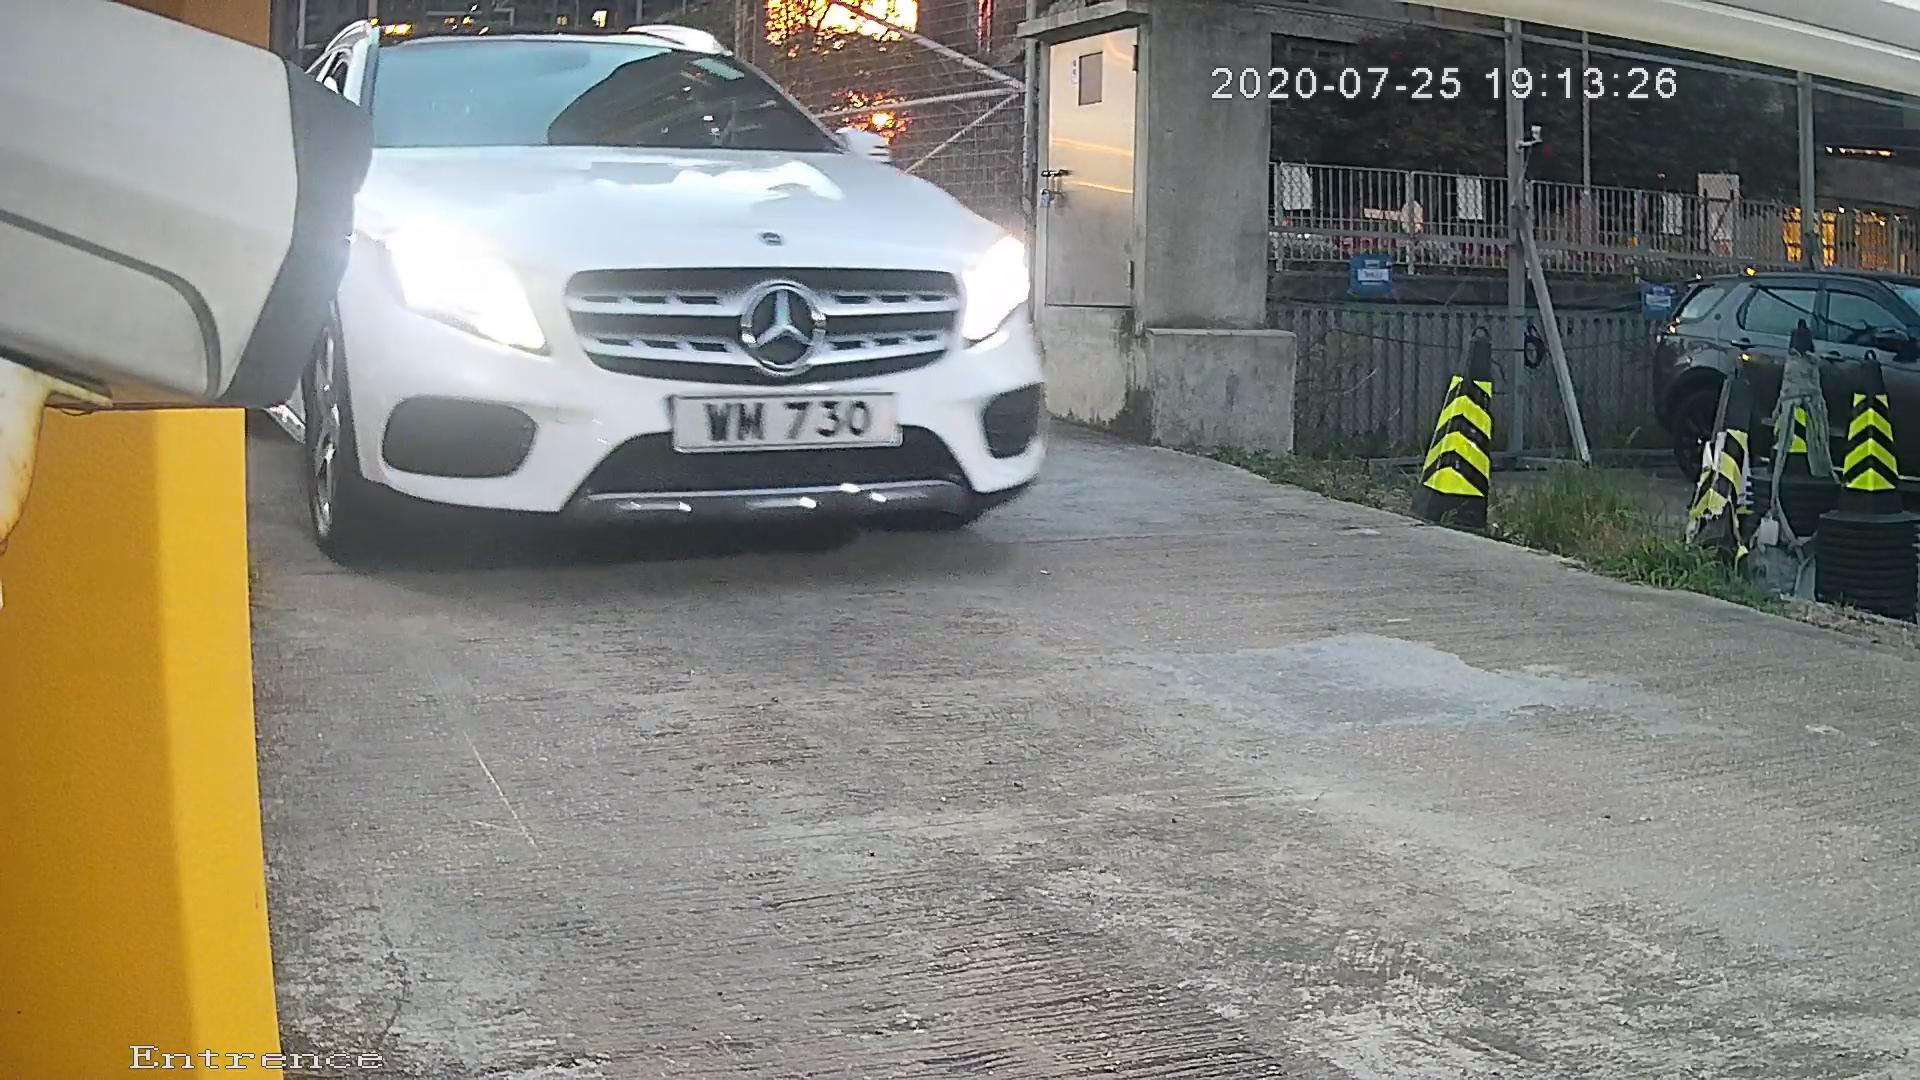License Plate: (626, 381, 926, 468)
